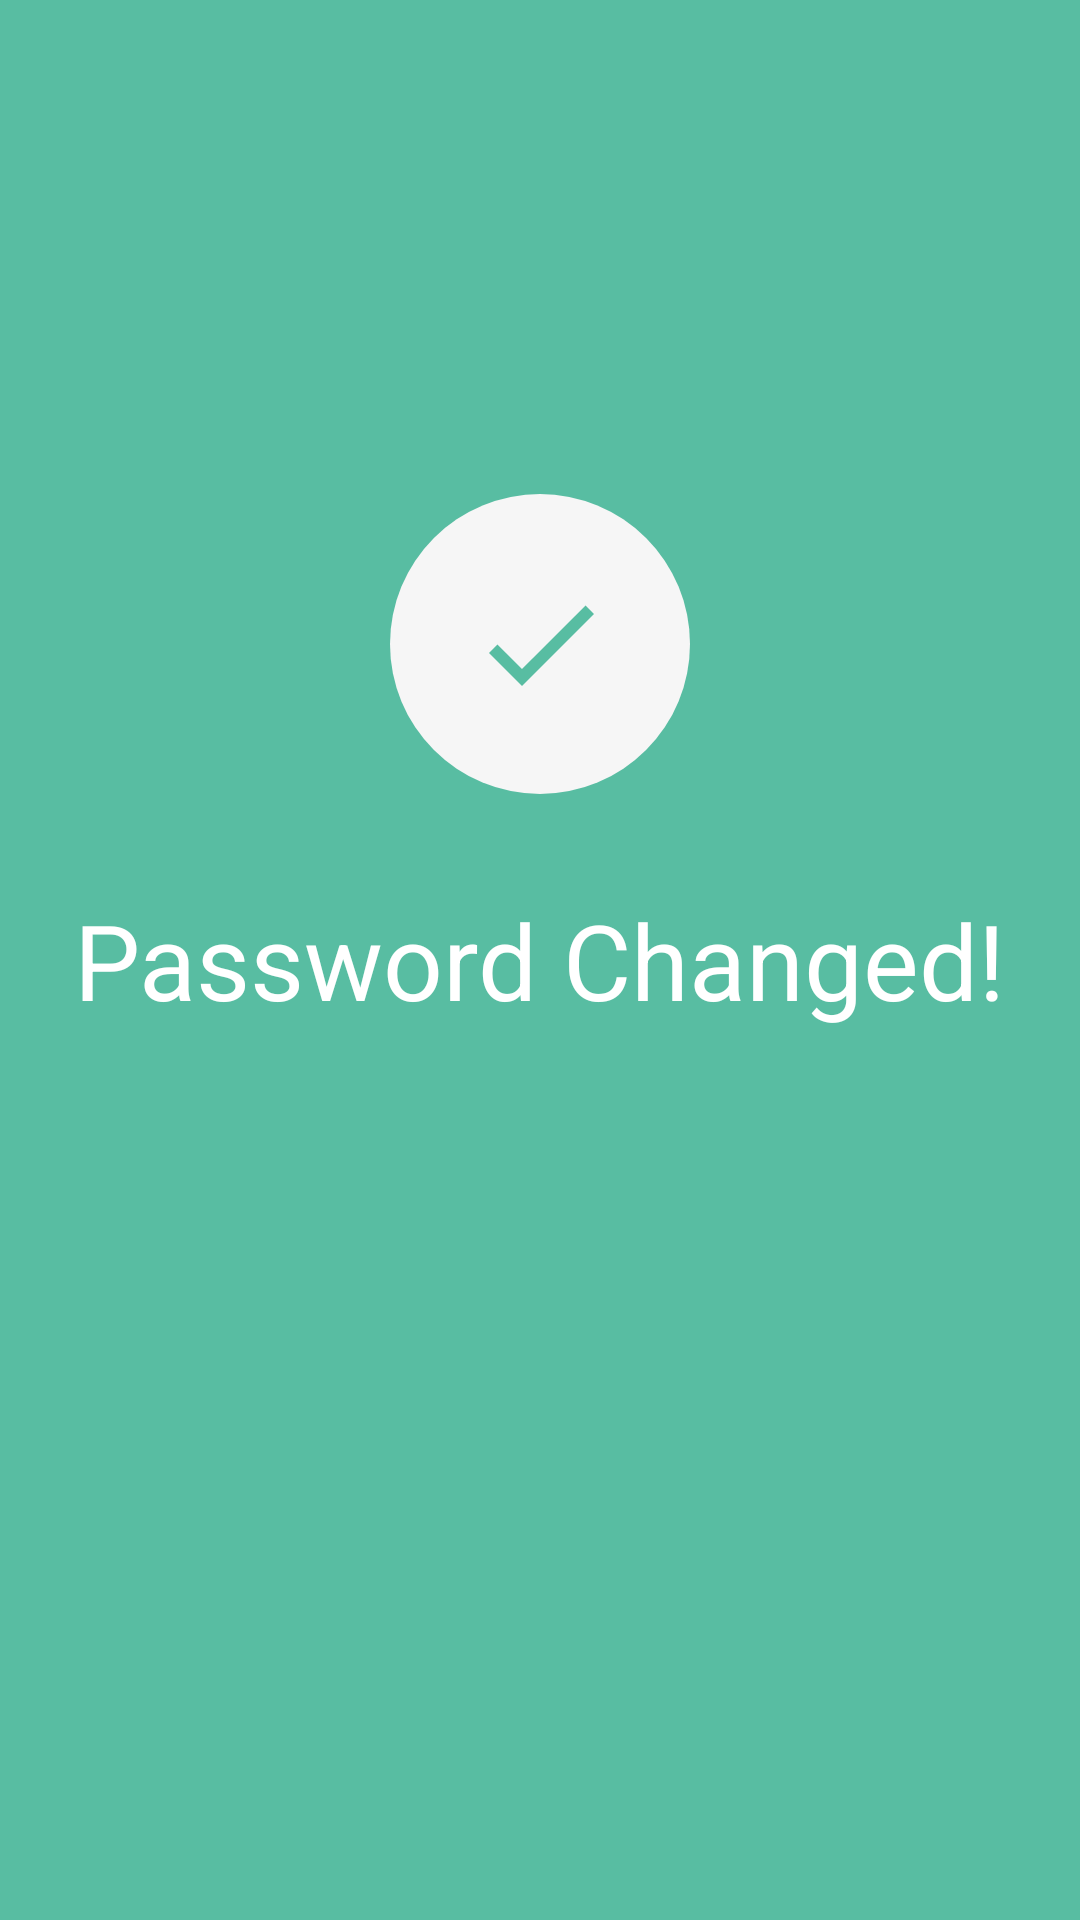

Where to tap for icons on this 1080x1920 app screen, as point (x, y):
check: point (541, 645)
